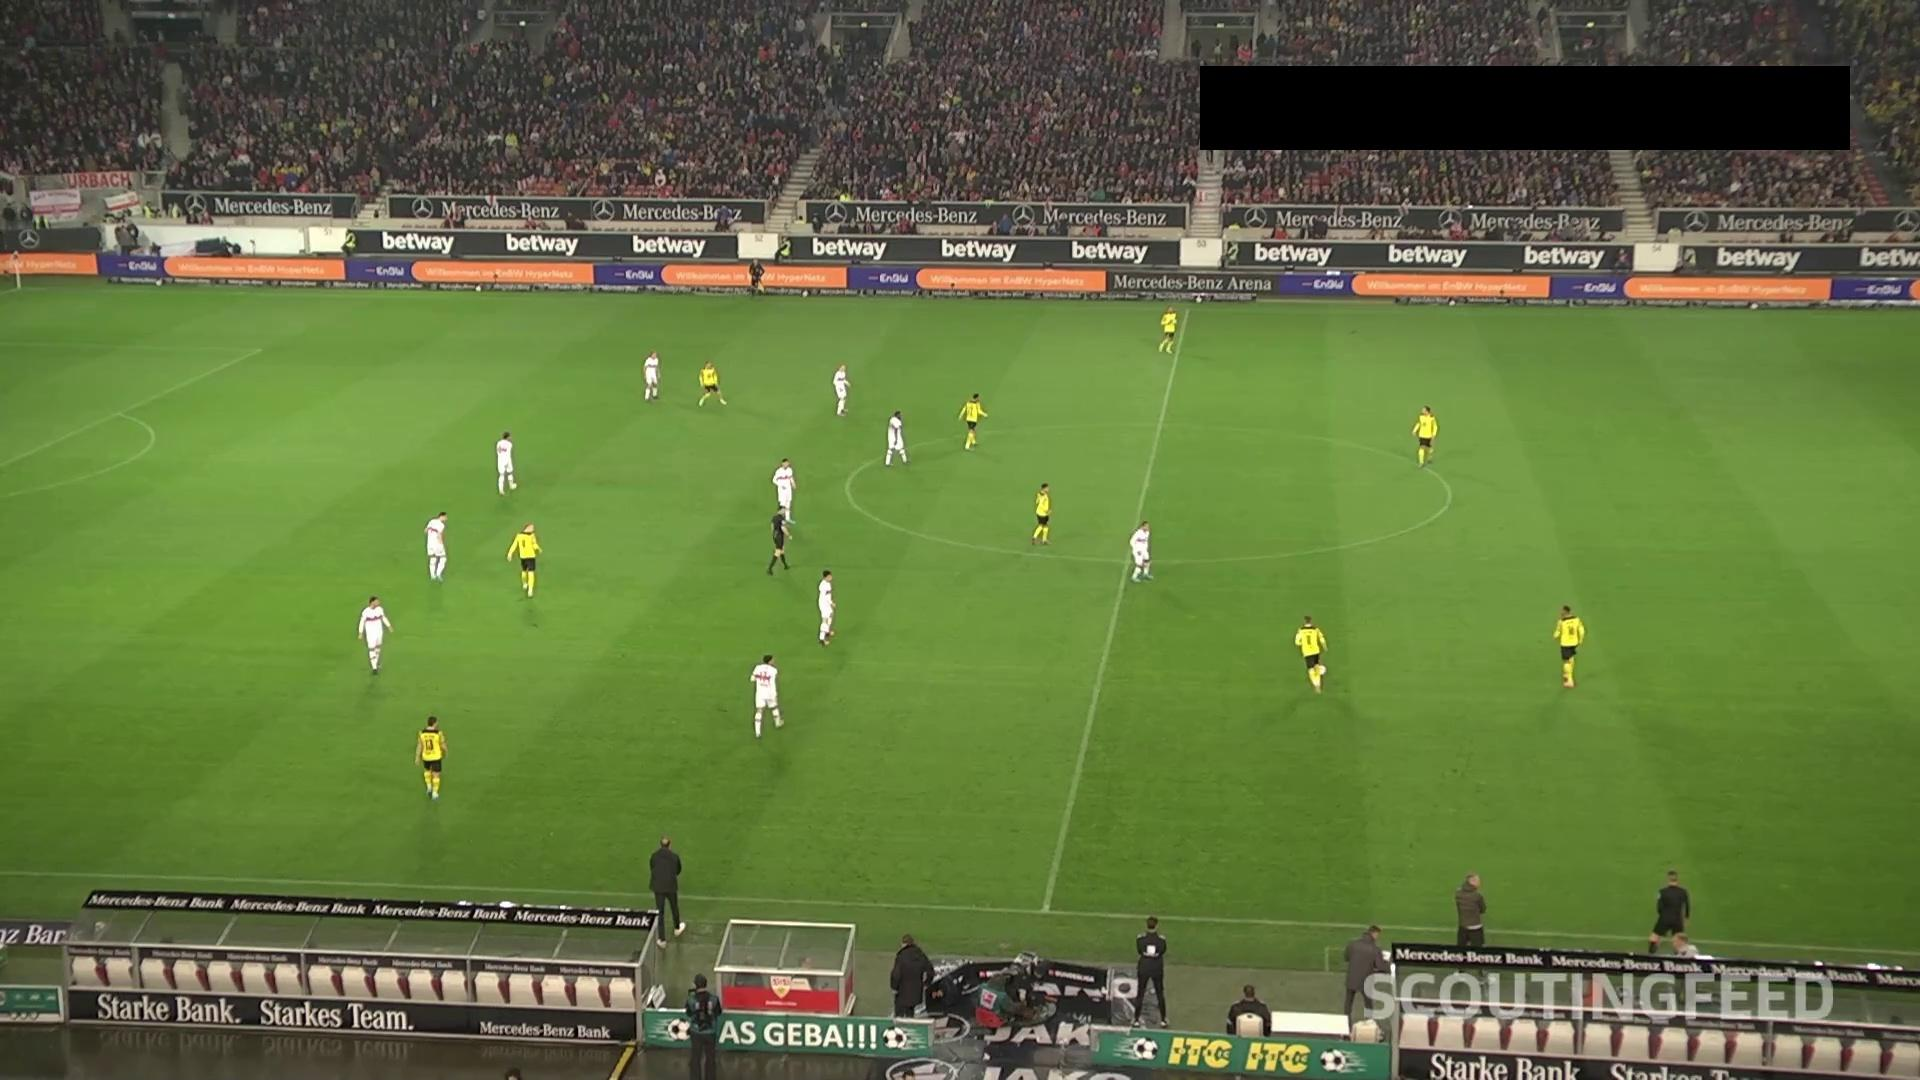Location-of-ball: (1315, 653, 1332, 678)
